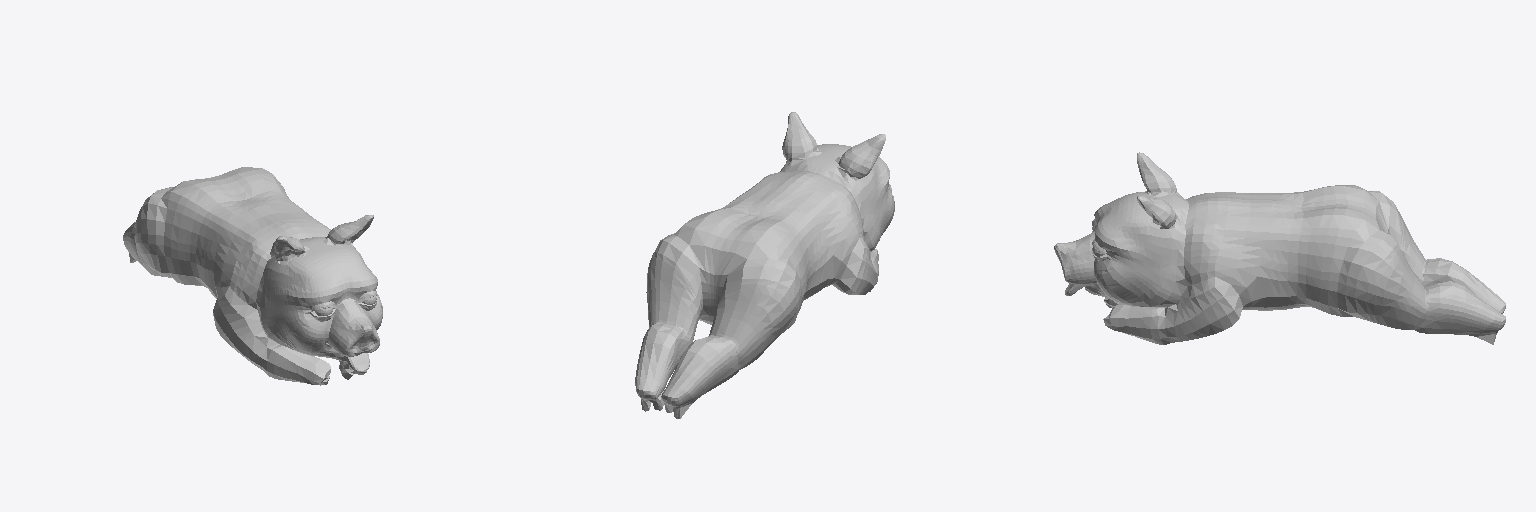
The model's file is Pig.obj.
3 renders of one model, left to right at view 1: azimuth 30°, elevation 25°; view 2: azimuth 150°, elevation 25°; view 3: azimuth 270°, elevation 25°, orthographic.
Parts seen in each view (by area): view 1: Pig; view 2: Pig; view 3: Pig.
Boxes of the visible parts, box(x1,y1,x2,y2) form: Pig: box(123, 167, 382, 385); Pig: box(635, 112, 894, 418); Pig: box(1054, 152, 1505, 344).
Size of the model in its own units: 3.91 by 4.29 by 10.79.